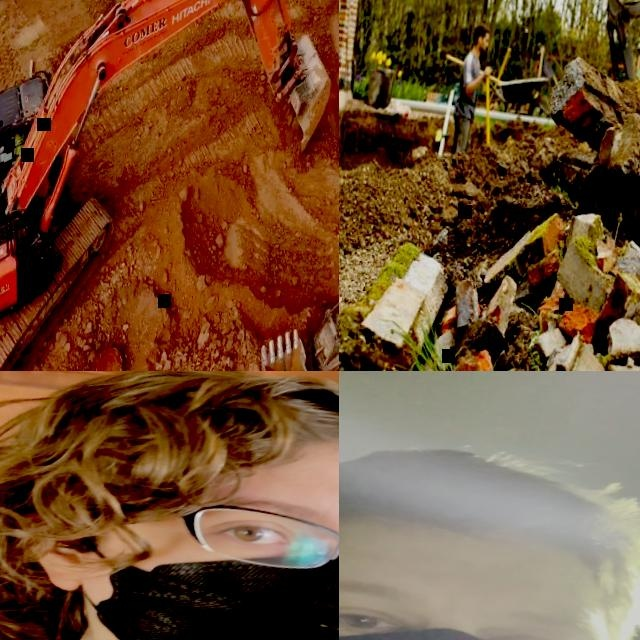Mask: (46, 514, 339, 640)
NO-Hardhat: (339, 420, 640, 589), (31, 371, 339, 512), (474, 21, 490, 36)
NO-Mask: (481, 40, 489, 51)
NO-Safety Vest: (452, 51, 484, 121)
Person: (0, 371, 339, 640), (339, 399, 640, 640), (447, 20, 498, 161), (11, 126, 26, 161)
Safety Vest: (13, 135, 25, 156)
machinery: (0, 0, 339, 371), (249, 325, 337, 371)
